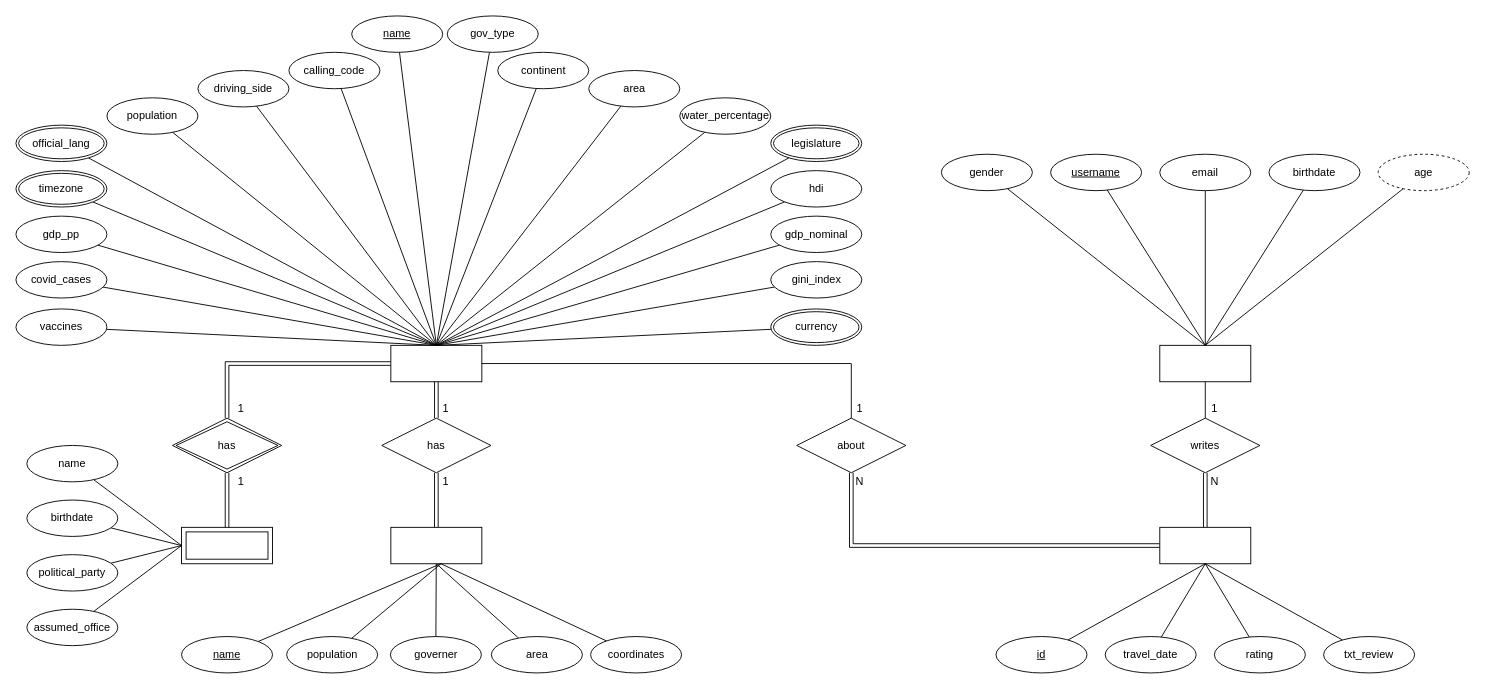
Image size: 1485x689. Some labels were removed from this diagram. Each missing label, with the centre of its shape:
"Capital" goes at point 436,545.
"Country" goes at point 436,363.
"President" goes at point 227,545.
"User" goes at point 1205,363.
"User_review" goes at point 1205,545.
